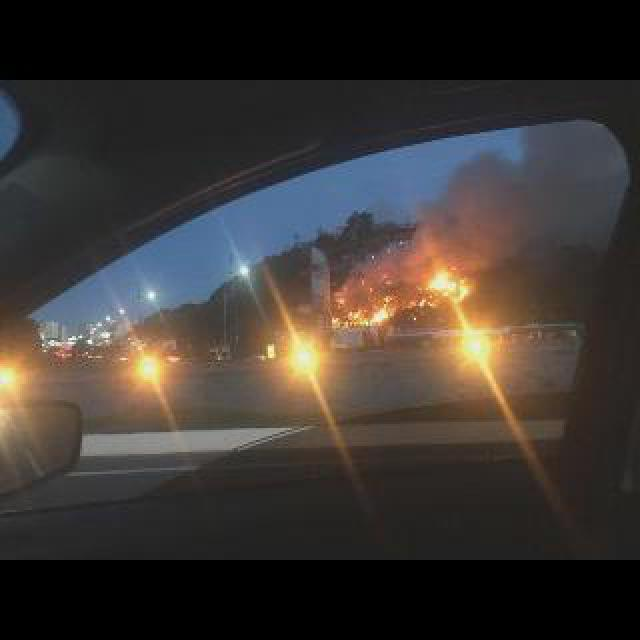fire: (336, 274, 401, 334), (426, 256, 494, 308)
light: (278, 326, 324, 380), (454, 331, 504, 374), (128, 350, 166, 398), (0, 353, 27, 409), (100, 300, 134, 329), (233, 259, 259, 283), (146, 288, 162, 308)
smoke: (436, 149, 620, 250)
